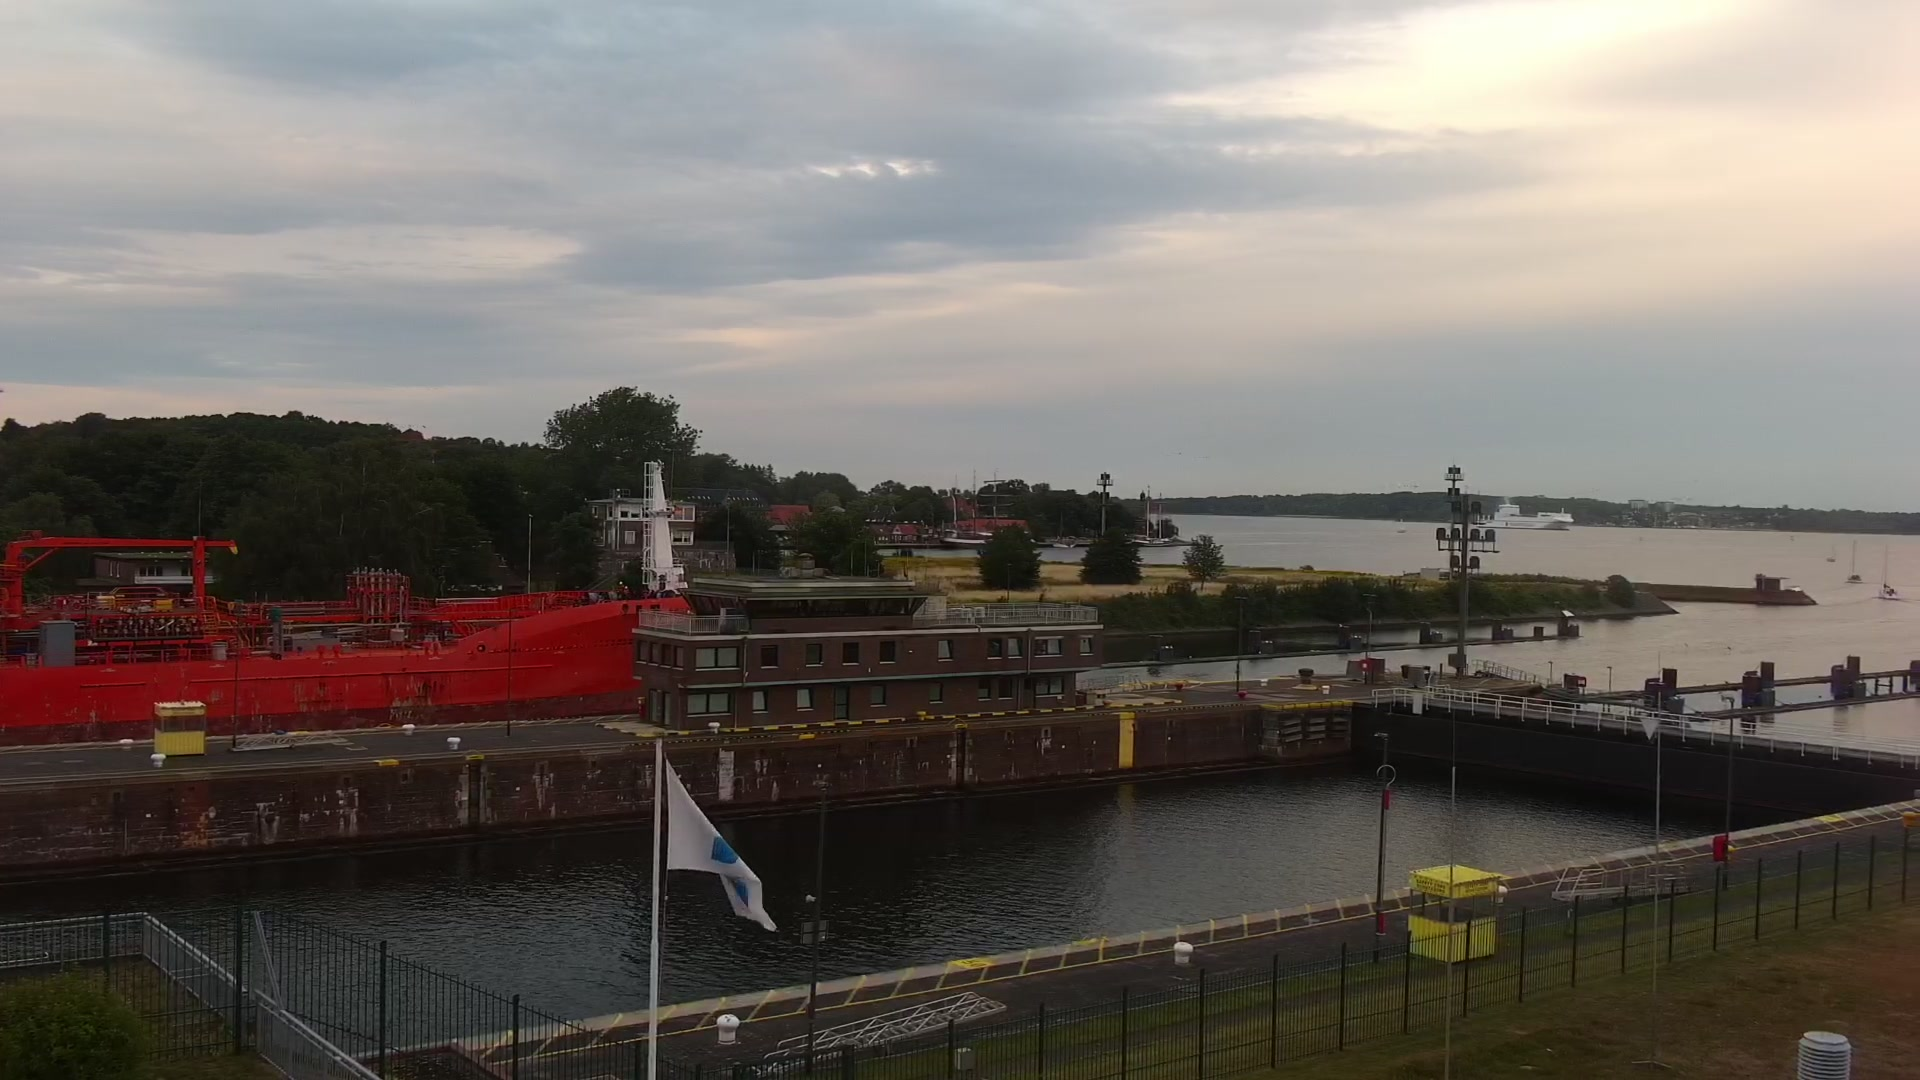sea: (1, 458, 698, 749), (938, 469, 1015, 549), (1476, 502, 1575, 529), (1127, 483, 1168, 546), (1878, 542, 1898, 599), (1052, 509, 1075, 547), (1846, 538, 1861, 582), (1826, 543, 1836, 562), (1396, 516, 1407, 531)
